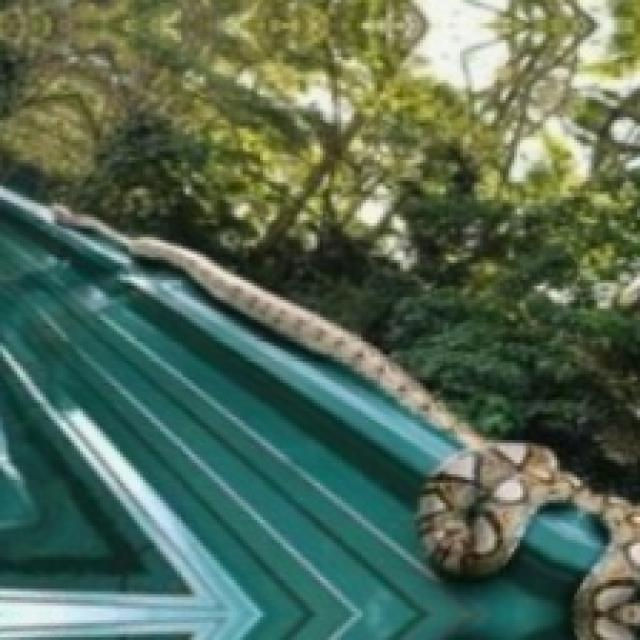reticulated python: (54, 206, 637, 637), (417, 443, 637, 637)
